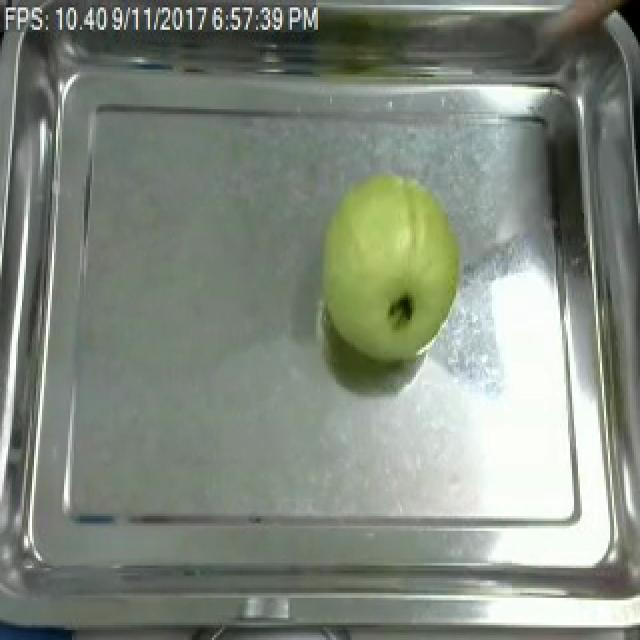Fruit: (310, 161, 472, 370)
